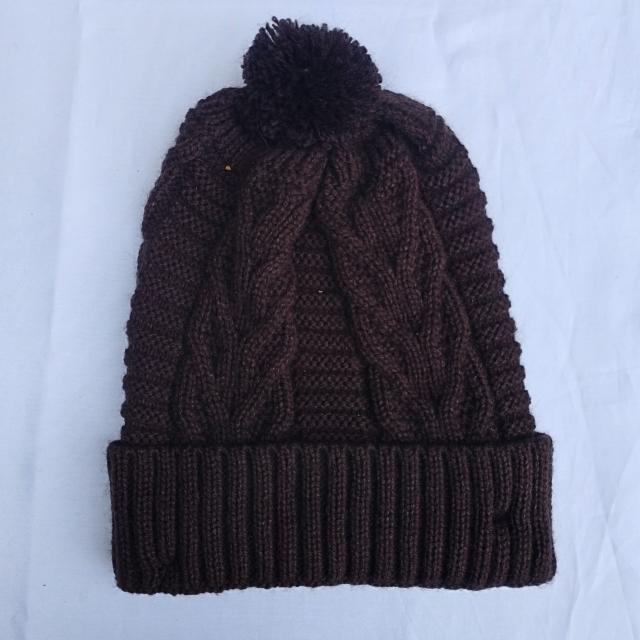Gorro: (106, 16, 557, 595)
